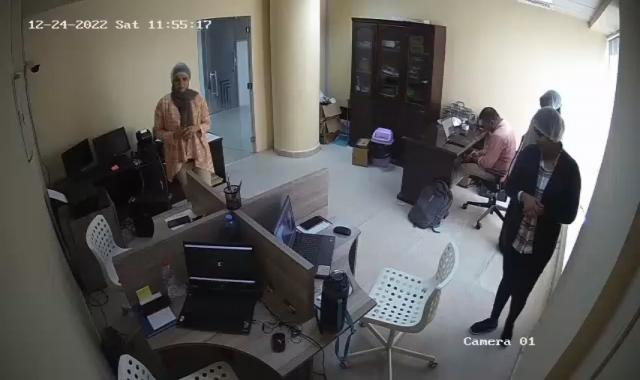hairnet: (532, 105, 566, 148), (539, 88, 567, 113), (169, 63, 192, 92)
no_hairnet: (476, 104, 502, 135)
